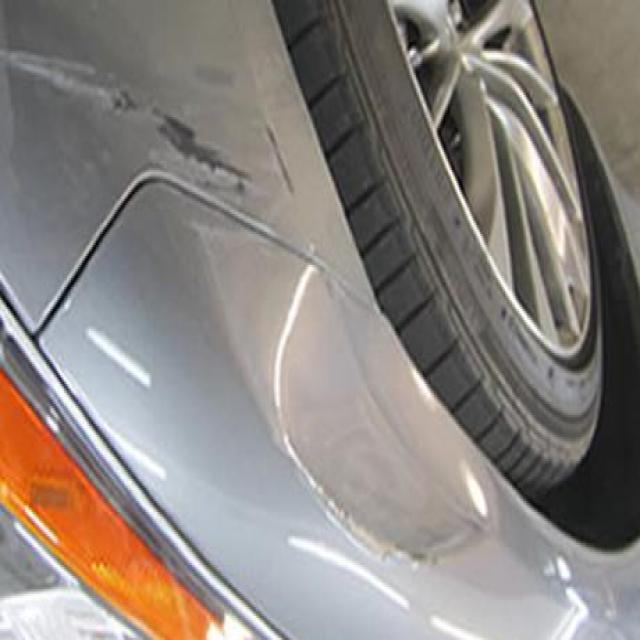scratch: (0, 22, 259, 196)
